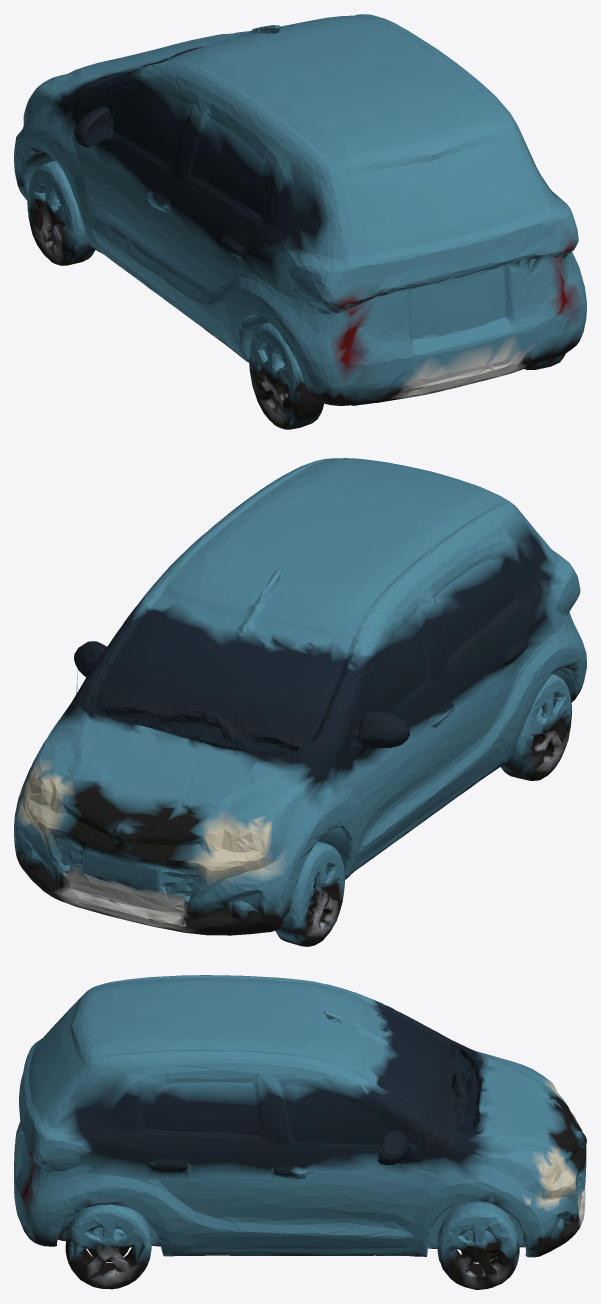
File: tiba_lod1.glb
3 renders of one model, top to bottom at view 1: azimuth 30°, elevation 25°; view 2: azimuth 150°, elevation 25°; view 3: azimuth 270°, elevation 25°, orthographic. The views are drawn at different scales.
Visible parts, largest first — view 1: world; view 2: world; view 3: world.
Boxes of the visible parts, x1,y1,x2,y2 form: world: (14,14,586,429); world: (14,458,586,946); world: (14,975,586,1289).
Size of the model in its own units: 86.69 by 69.34 by 158.
